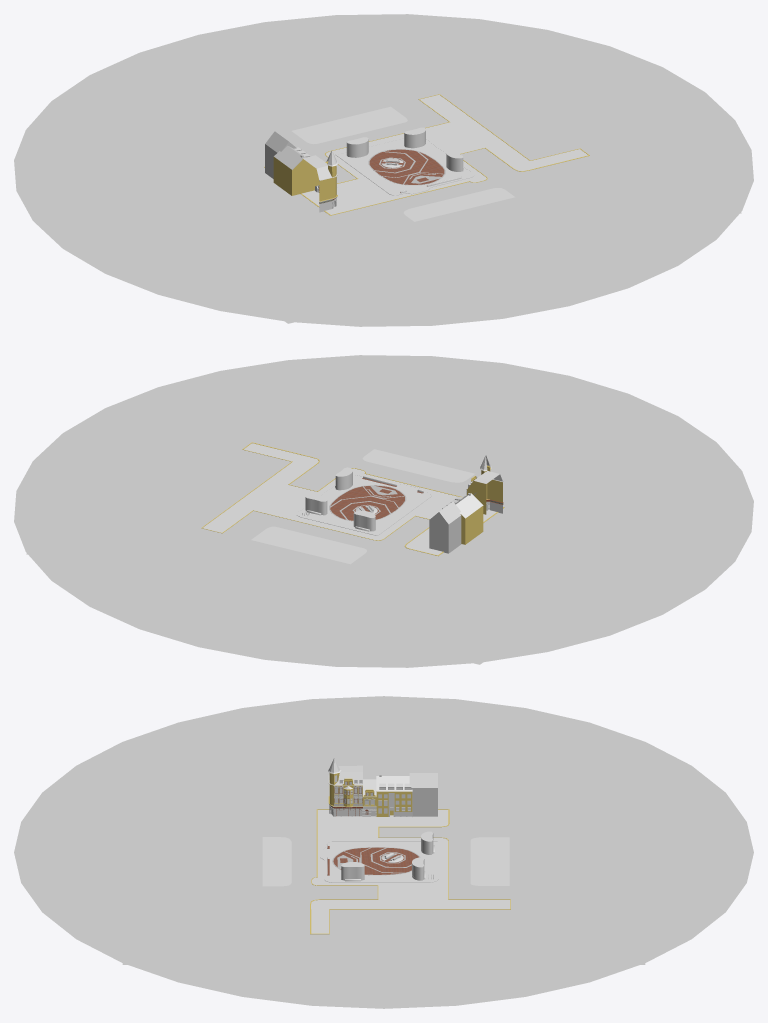
Rendered from schillerplatz.fbx.
The picture shows the model from 3 angles, top to bottom: view 1: azimuth 30°, elevation 25°; view 2: azimuth 150°, elevation 25°; view 3: azimuth 270°, elevation 25°; orthographic projection.
Visible parts, largest first — view 1: Circle.001, Plane.007, Plane.003, Plane.001, VanDooren, Building_2, Cube.010; view 2: Circle.001, Plane.007, Plane.003, Plane.001, Cube.010, VanDooren, Building_2; view 3: Circle.001, Plane.007, Plane.003, VanDooren, Plane.001, Cube.010, Building_2.
Part boxes in pixels (x1,y1,x2,y2): Circle.001: (14, 14, 753, 326); Plane.007: (264, 94, 589, 221); Plane.003: (335, 138, 473, 195); Plane.001: (368, 149, 445, 185); VanDooren: (302, 150, 337, 212); Building_2: (273, 145, 314, 195); Cube.010: (265, 131, 296, 178); Circle.001: (14, 355, 753, 667); Plane.007: (201, 442, 504, 564); Plane.003: (297, 474, 431, 535); Plane.001: (329, 485, 406, 521); Cube.010: (429, 501, 461, 553); VanDooren: (466, 455, 503, 514); Building_2: (455, 493, 483, 544); Circle.001: (14, 696, 753, 1008); Plane.007: (262, 809, 510, 934); Plane.003: (319, 841, 438, 882); VanDooren: (328, 758, 376, 816); Plane.001: (332, 847, 420, 875); Cube.010: (409, 773, 437, 816); Building_2: (376, 776, 412, 816).
Bounding box in the file's own units: 6239 × 559 × 6239.
